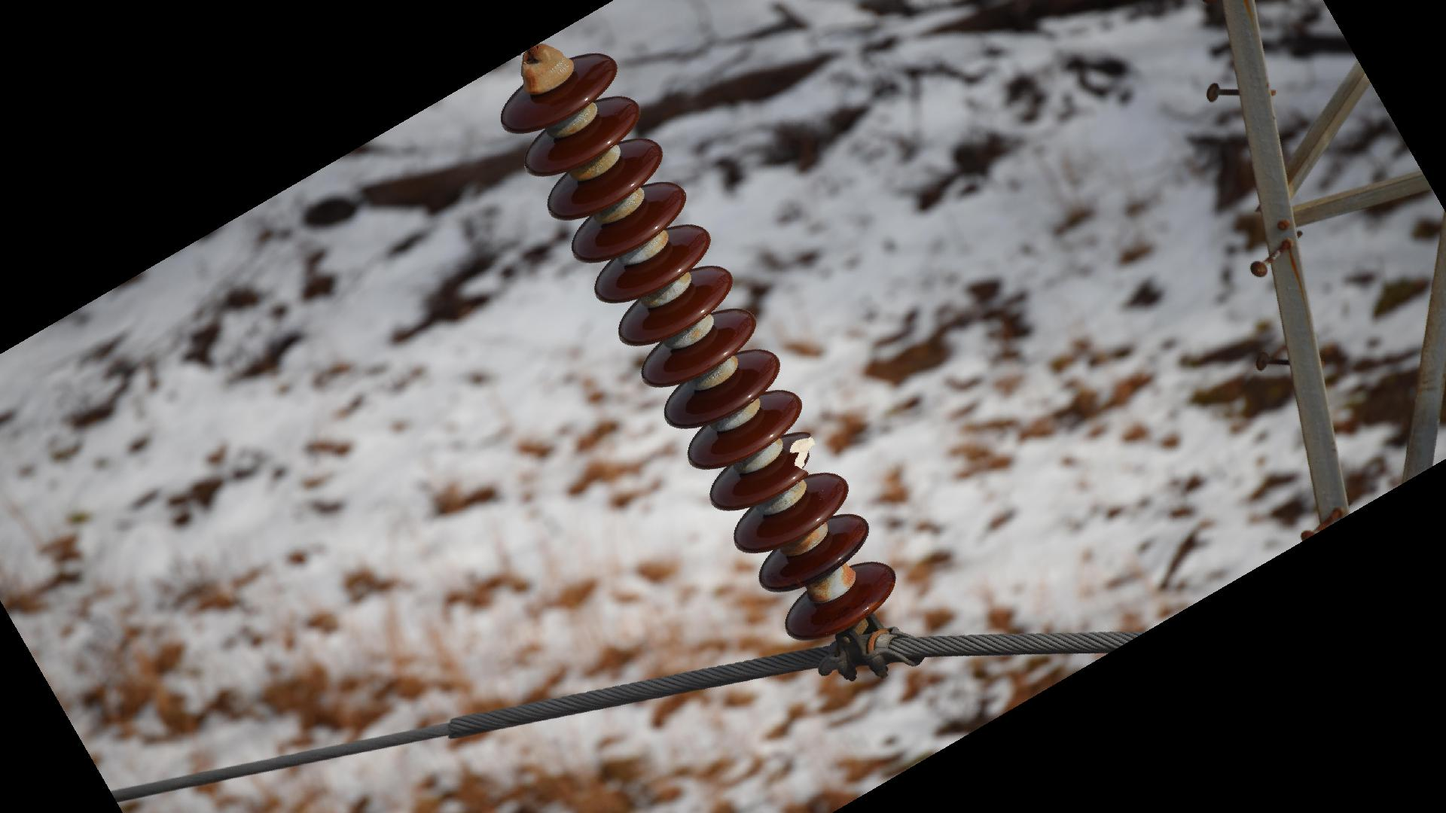insulator: (495, 48, 901, 644)
insulator_breakage: (786, 428, 818, 483)
